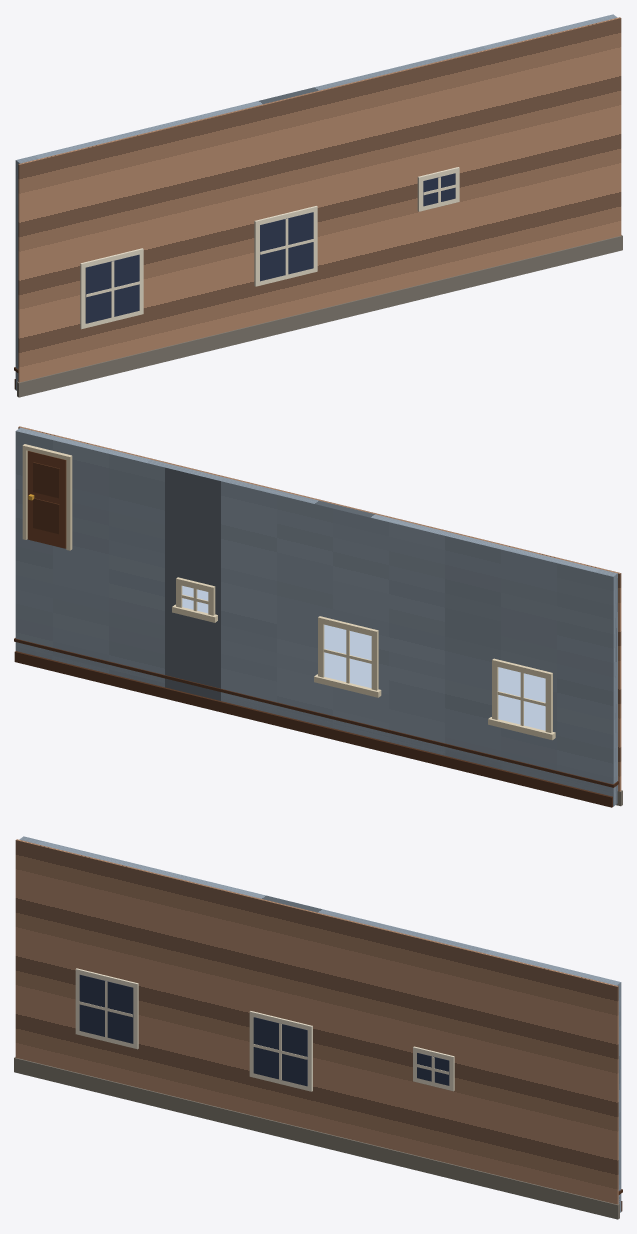
Rendered from back.glb.
The picture shows the model from 3 angles, top to bottom: view 1: azimuth 30°, elevation 25°; view 2: azimuth 150°, elevation 25°; view 3: azimuth 330°, elevation 25°; orthographic projection.
Visible parts, largest first — view 1: Box3, Box4, Box1, Box6, Box17, Box5, Box16, Box27, Box28; view 2: Box1, Box2, Box42, Box43, Box13, Box24, slab, Box3, slab_panel2, slab_panel, Box39, Box40 (+2 smaller); view 3: Box3, Box4, Box1, Box6, Box17, Box16, Box5, Box28, Box27.
Boxes of the visible parts, x1,y1,x2,y2 form: Box3: (18,17,621,382); Box4: (17,235,622,397); Box1: (15,14,617,390); Box6: (85,254,139,323); Box17: (260,212,313,281); Box5: (80,248,143,329); Box16: (254,206,317,286); Box27: (417,167,459,211); Box28: (423,173,455,206); Box1: (15,427,617,806); Box2: (14,651,612,807); Box42: (16,644,617,805); Box43: (14,638,618,787); Box13: (498,667,545,730); Box24: (324,624,371,688); slab: (27,451,66,548); Box3: (18,426,621,791); slab_panel2: (33,462,59,498); slab_panel: (33,498,59,534); Box39: (66,454,72,550); Box40: (22,444,27,539); Box3: (15,839,618,1204); Box4: (14,1057,619,1219); Box1: (19,836,621,1212); Box6: (79,974,133,1043); Box17: (253,1017,307,1086); Box16: (249,1011,312,1091); Box5: (75,968,138,1049); Box28: (417,1053,449,1085); Box27: (413,1046,454,1091).
Size of the model in its own units: 11.27 by 4.14 by 0.373.
11 materials, 2 textured.
